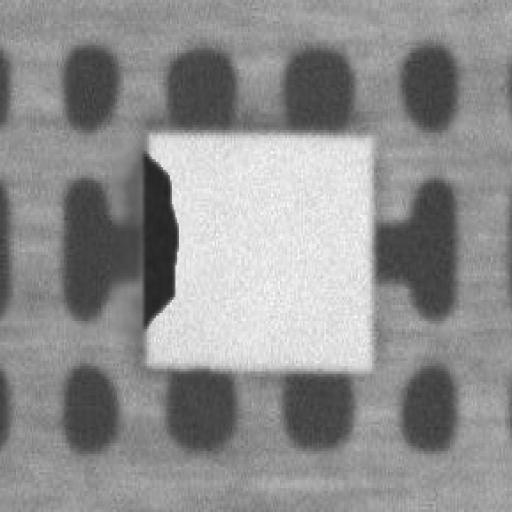DIE_BROKEN: (137, 146, 177, 329)
